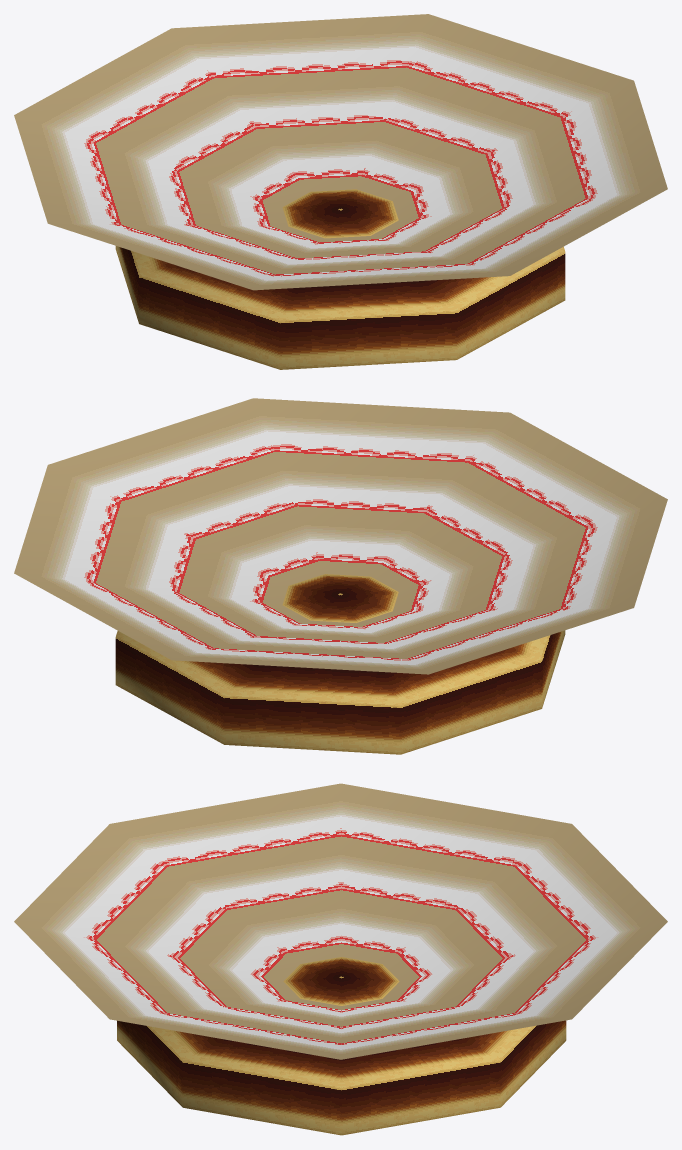
File: 1157ucc_mis_ht0.gltf
3 renders of one model, top to bottom at view 1: azimuth 30°, elevation 25°; view 2: azimuth 150°, elevation 25°; view 3: azimuth 270°, elevation 25°, orthographic. The views are drawn at different scales.
Parts seen in each view (by area): view 1: 1157ucc_mis_ht0; view 2: 1157ucc_mis_ht0; view 3: 1157ucc_mis_ht0.
Part boxes in pixels (box(x1,y1,x2,y2)): 1157ucc_mis_ht0: box(14, 14, 667, 369); 1157ucc_mis_ht0: box(14, 398, 667, 754); 1157ucc_mis_ht0: box(14, 783, 667, 1135).
Size of the model in its own units: 0.9009 by 0.1816 by 0.9009.
Materials: 4 (4 with a texture image).
